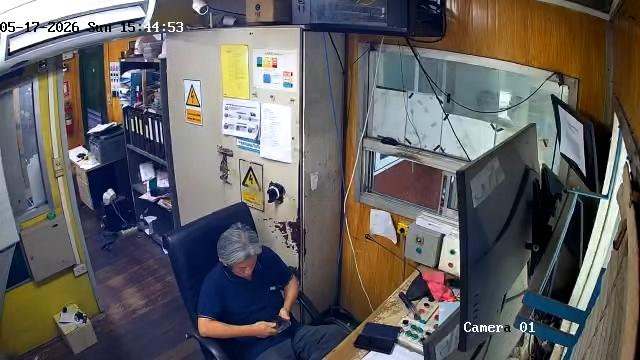Head: (217, 222, 267, 275)
People: (199, 222, 346, 360)
Phone: (353, 334, 395, 354), (267, 316, 293, 332)
